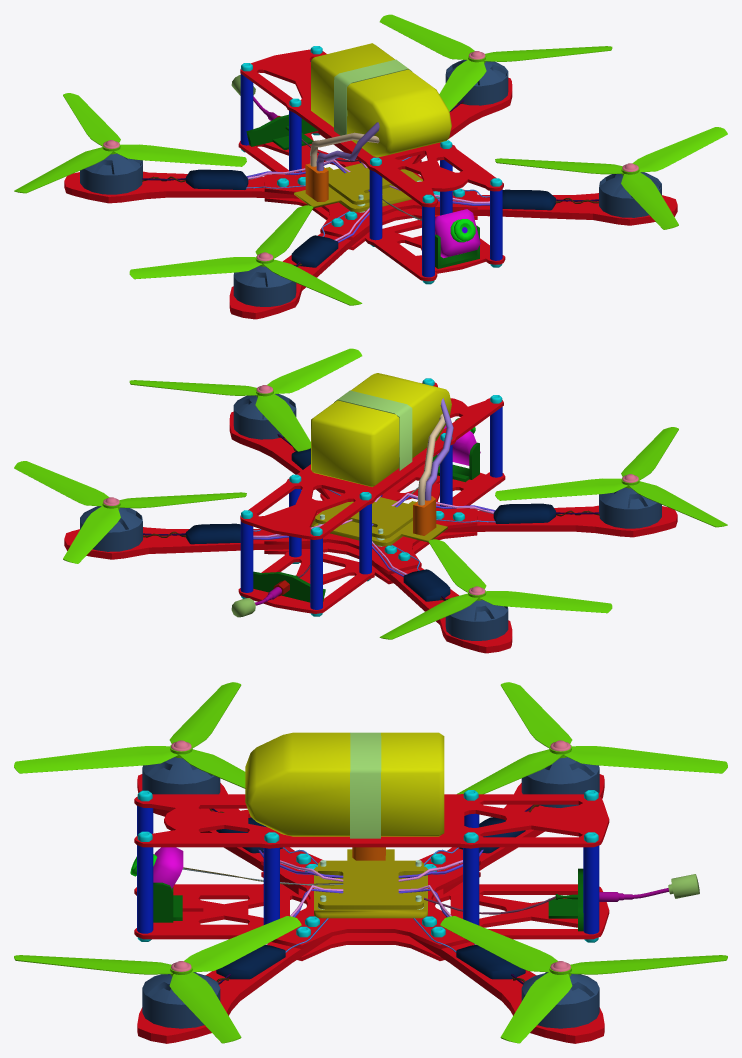
Rendered from dron.fbx.
The picture shows the model from 3 angles, top to bottom: view 1: azimuth 30°, elevation 25°; view 2: azimuth 150°, elevation 25°; view 3: azimuth 270°, elevation 25°; orthographic projection. The views are drawn at different scales.
Visible parts, largest first — view 1: Plane.022; view 2: Plane.022; view 3: Plane.022.
Boxes of the visible parts, box(x1,y1,x2,y2) form: Plane.022: box(14, 14, 727, 319); Plane.022: box(14, 348, 727, 653); Plane.022: box(14, 682, 727, 1043).
Bounding box in the file's own units: 7.43 × 1.65 × 6.25.
